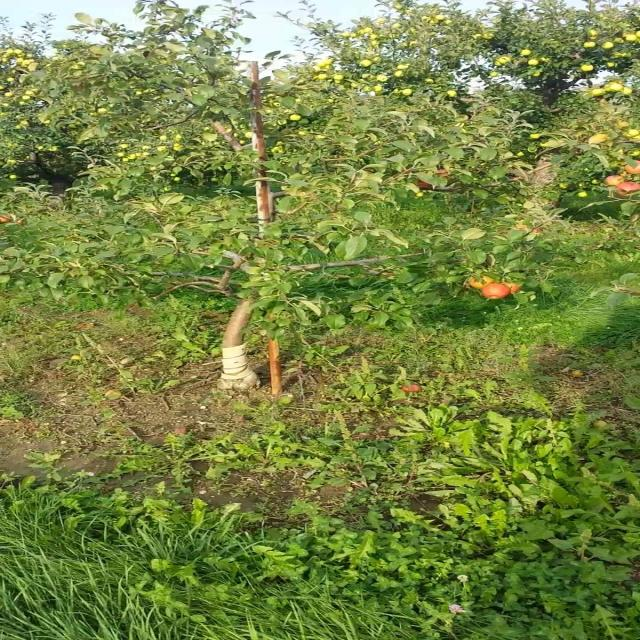apple: (483, 284, 512, 300), (468, 276, 491, 288), (604, 176, 626, 186), (618, 184, 638, 195), (625, 164, 639, 176), (589, 136, 610, 144), (419, 180, 434, 189), (618, 120, 633, 129), (504, 284, 519, 292), (440, 168, 450, 176), (582, 192, 590, 196)
